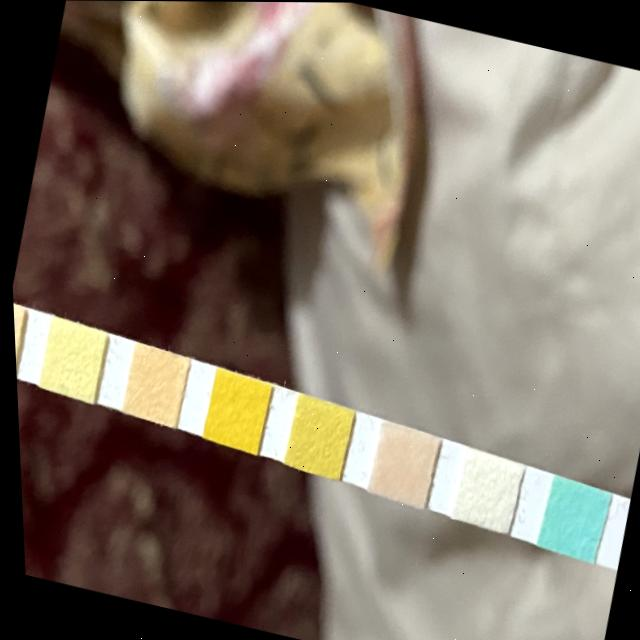Bilirubin: (447, 449, 518, 530)
Blood: (197, 369, 269, 449)
Glucose: (533, 478, 605, 557)
Ketone: (362, 422, 437, 503)
Protein: (34, 318, 105, 399)
SpGravity: (279, 395, 352, 477)
Urobilinogen: (11, 302, 24, 374)
pH: (116, 343, 188, 423)
